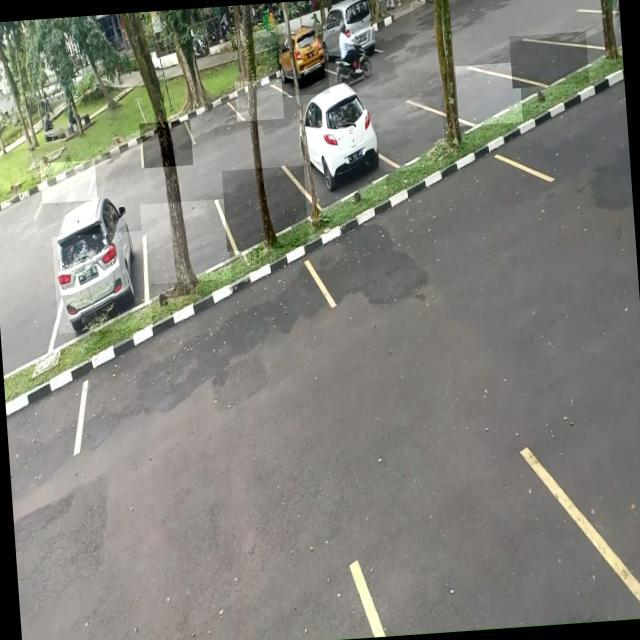empty: (140, 198, 230, 284), (221, 165, 309, 252), (376, 95, 446, 172), (508, 31, 590, 88), (455, 61, 522, 126), (88, 138, 145, 187), (139, 120, 193, 168), (188, 98, 238, 146), (40, 160, 96, 202), (234, 78, 284, 121)
occupied: (51, 230, 152, 334), (296, 103, 386, 205), (276, 46, 329, 96)
